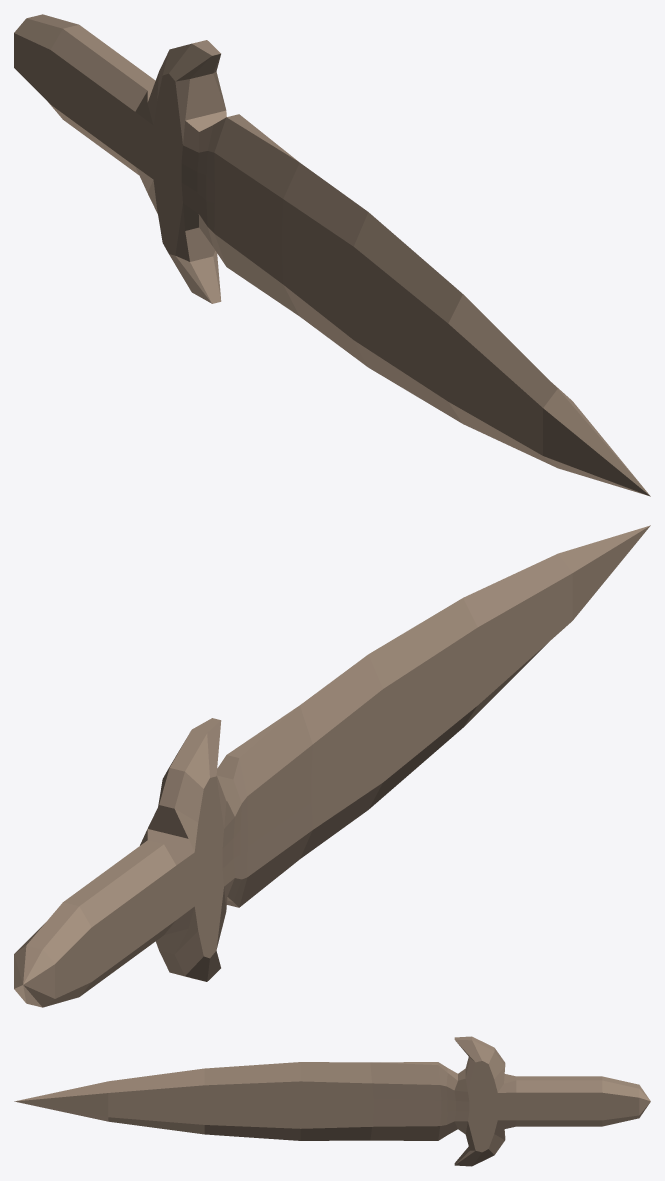
The model's file is Throw_Knife_Export_Model.FBX.
3 renders of one model, top to bottom at view 1: azimuth 30°, elevation 25°; view 2: azimuth 150°, elevation 25°; view 3: azimuth 270°, elevation 25°, orthographic. The views are drawn at different scales.
Visible parts, largest first — view 1: ThrowingKnife; view 2: ThrowingKnife; view 3: ThrowingKnife.
Part boxes in pixels (x1=…): ThrowingKnife: x1=14, y1=14, x2=650, y2=496; ThrowingKnife: x1=14, y1=525, x2=650, y2=1007; ThrowingKnife: x1=14, y1=1036, x2=650, y2=1166.
Bounding box in the file's own units: 2.23 × 12.91 × 59.06.
